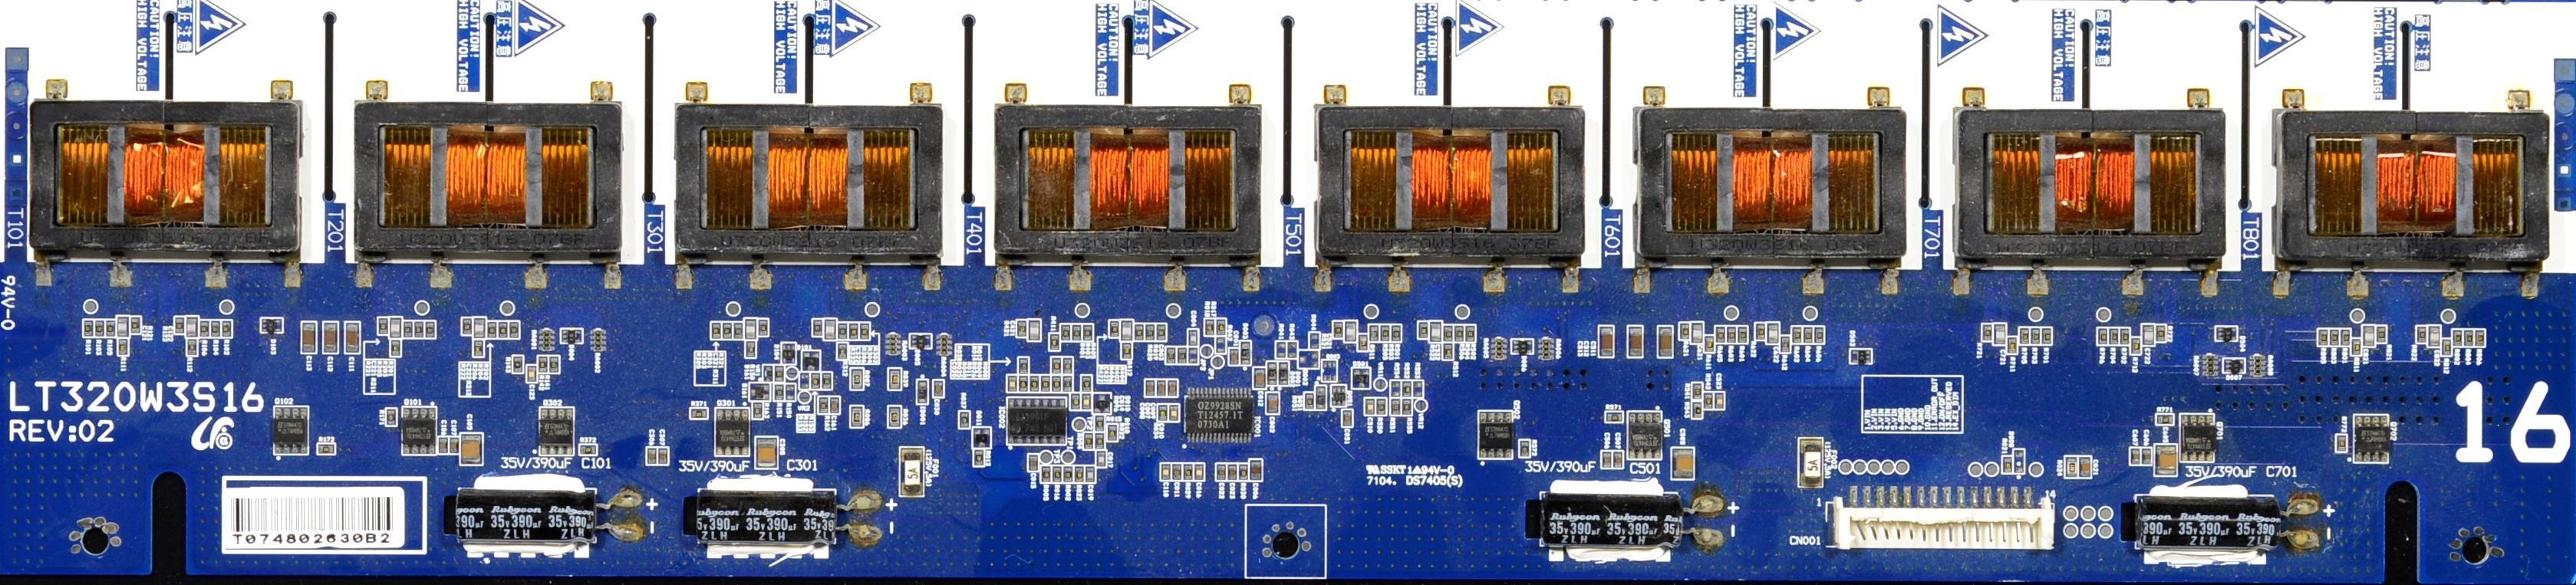Capacitor: (1672, 449, 1695, 478), (756, 438, 776, 468), (461, 435, 483, 465), (2156, 446, 2176, 477), (1600, 326, 1614, 357), (1629, 327, 1642, 357), (345, 324, 358, 352), (304, 323, 315, 353), (324, 322, 337, 351), (1659, 327, 1672, 357), (1430, 321, 1442, 343), (1027, 320, 1040, 341), (2428, 326, 2440, 348), (2080, 455, 2091, 478), (745, 318, 756, 340), (1692, 323, 1703, 343), (1995, 324, 2005, 345), (2363, 325, 2374, 347), (117, 317, 128, 337), (1122, 321, 1133, 340), (1768, 324, 1780, 343), (1254, 368, 1266, 388), (188, 317, 196, 338), (2143, 324, 2154, 345), (1251, 460, 1261, 481), (825, 320, 837, 339), (1267, 394, 1279, 412), (1345, 322, 1356, 341), (474, 318, 485, 337), (1230, 347, 1240, 365), (1715, 393, 1724, 410), (1171, 463, 1181, 481), (2140, 449, 2153, 464), (1188, 347, 1197, 363), (1157, 380, 1166, 396), (2131, 448, 2140, 464), (1161, 463, 1171, 479), (1194, 463, 1204, 480), (1215, 465, 1226, 481), (392, 317, 401, 336), (1082, 393, 1092, 410), (1029, 454, 1037, 472), (1342, 410, 1352, 426), (449, 439, 458, 453), (439, 439, 448, 454), (1603, 452, 1611, 467), (1614, 453, 1622, 468), (934, 380, 944, 396), (1098, 450, 1105, 467), (1086, 467, 1094, 483), (1189, 330, 1197, 346), (528, 366, 536, 382), (1009, 376, 1017, 392), (1168, 381, 1177, 396), (831, 397, 840, 412), (1366, 399, 1375, 415), (1169, 406, 1178, 420), (658, 449, 667, 464), (647, 449, 656, 464), (1228, 465, 1237, 480), (1217, 338, 1225, 352), (1146, 380, 1154, 395)
IC: (1180, 389, 1253, 446), (1009, 389, 1072, 454), (2180, 406, 2221, 465), (267, 401, 312, 455), (1478, 406, 1519, 462), (712, 405, 753, 460), (535, 404, 573, 458), (1628, 408, 1667, 462), (399, 403, 435, 458), (2355, 423, 2396, 464)
Resistor: (315, 441, 335, 454), (473, 339, 485, 358), (889, 370, 900, 389), (690, 407, 710, 419), (822, 373, 834, 390), (221, 320, 232, 338), (1418, 322, 1429, 340), (812, 317, 822, 337), (94, 319, 104, 338), (498, 320, 508, 340), (733, 321, 743, 340), (710, 322, 720, 341), (1981, 324, 1991, 343), (2007, 336, 2018, 354), (550, 357, 560, 376), (852, 370, 862, 389), (425, 320, 436, 337), (1390, 325, 1402, 342), (2020, 329, 2031, 345), (1443, 343, 1454, 360), (1520, 440, 1530, 457), (975, 450, 985, 466), (462, 317, 472, 335), (759, 318, 769, 337), (414, 320, 424, 338), (509, 320, 519, 339), (2417, 326, 2426, 343), (1705, 336, 1715, 353), (537, 355, 547, 373), (512, 356, 522, 373), (1402, 382, 1412, 399), (818, 396, 828, 415), (1158, 405, 1168, 422), (852, 407, 862, 426), (2067, 458, 2077, 477), (173, 314, 182, 335), (1286, 341, 1297, 357), (378, 318, 387, 336), (84, 319, 92, 338), (1016, 320, 1026, 337), (1333, 321, 1343, 337), (1135, 324, 1145, 340), (1371, 325, 1379, 342), (2031, 328, 2041, 345), (2041, 328, 2052, 345), (1050, 334, 1059, 350), (2442, 340, 2451, 357), (119, 340, 127, 357), (187, 340, 196, 357), (1276, 342, 1286, 358), (746, 341, 756, 359), (837, 343, 846, 360), (764, 364, 774, 381), (1692, 383, 1702, 399), (1390, 399, 1400, 416), (753, 401, 763, 420), (386, 406, 395, 426), (1606, 412, 1623, 422), (2156, 415, 2173, 424), (1095, 432, 1104, 449), (579, 445, 597, 455), (105, 319, 113, 337), (201, 321, 209, 338), (488, 321, 496, 339), (723, 321, 732, 339), (1381, 324, 1390, 341), (1445, 324, 1454, 342), (2156, 326, 2166, 343), (1310, 332, 1319, 350), (1360, 334, 1369, 351), (1020, 357, 1028, 375), (1414, 380, 1423, 398), (1071, 393, 1080, 410), (890, 408, 899, 426), (1205, 320, 1215, 335), (838, 324, 847, 339), (849, 324, 858, 339), (1727, 327, 1736, 342), (1814, 328, 1823, 343), (2097, 328, 2108, 344), (2110, 328, 2119, 344), (2353, 340, 2362, 355), (1063, 359, 1072, 373), (775, 367, 786, 382), (1018, 376, 1029, 391), (1029, 376, 1039, 391), (1692, 403, 1702, 418), (1085, 434, 1094, 449), (2337, 435, 2346, 451), (1074, 467, 1084, 481), (1063, 468, 1072, 483), (132, 317, 140, 334), (1217, 319, 1226, 335), (212, 320, 219, 337), (404, 321, 413, 337), (1110, 322, 1119, 338), (1680, 323, 1689, 339), (1756, 324, 1765, 340), (1061, 326, 1069, 341), (1466, 326, 1474, 341), (1455, 326, 1464, 341), (1738, 326, 1747, 341), (2377, 327, 2385, 343), (2343, 330, 2350, 347), (1123, 343, 1132, 360), (1167, 348, 1174, 364), (1052, 359, 1061, 375), (812, 373, 820, 389), (1376, 399, 1385, 416), (1184, 465, 1191, 481), (391, 341, 400, 356), (2003, 458, 2012, 472), (861, 324, 869, 339), (1157, 325, 1165, 340), (1084, 326, 1093, 340), (1072, 325, 1081, 340), (1717, 327, 1725, 342), (1804, 327, 1813, 342), (2330, 330, 2338, 345), (2464, 330, 2472, 346), (2476, 331, 2485, 347), (2131, 338, 2139, 353), (1178, 348, 1186, 363), (1063, 376, 1072, 391), (1052, 376, 1060, 391), (1042, 376, 1050, 392), (1082, 377, 1090, 393), (1392, 381, 1400, 396), (786, 386, 795, 400), (775, 386, 784, 402), (1402, 399, 1412, 415), (1108, 426, 1118, 440), (1239, 465, 1247, 480), (1052, 466, 1061, 481), (1782, 336, 1790, 353), (1705, 392, 1712, 409), (1146, 324, 1154, 340), (1794, 328, 1802, 342), (2120, 330, 2129, 344), (2320, 330, 2328, 344), (1306, 394, 1315, 408), (1043, 468, 1051, 482), (2454, 330, 2462, 345), (960, 412, 968, 428), (1095, 416, 1103, 431)
